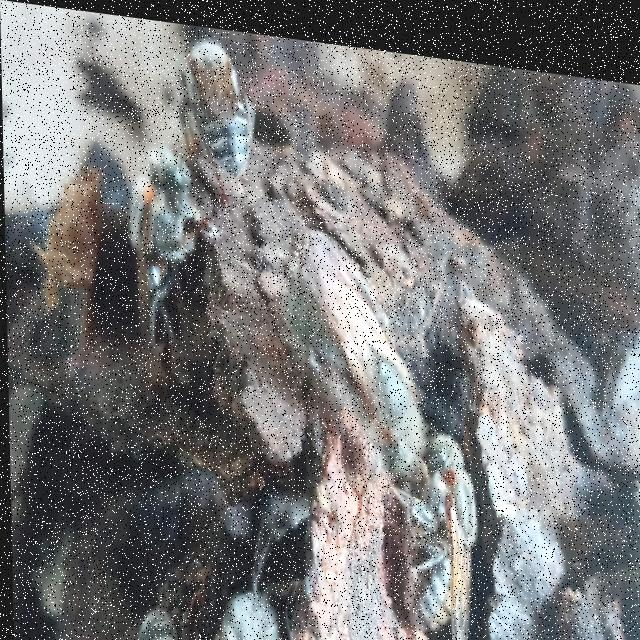Meliponula: (275, 220, 428, 454), (400, 407, 491, 640), (174, 28, 278, 186), (202, 564, 284, 640), (132, 581, 178, 640)
